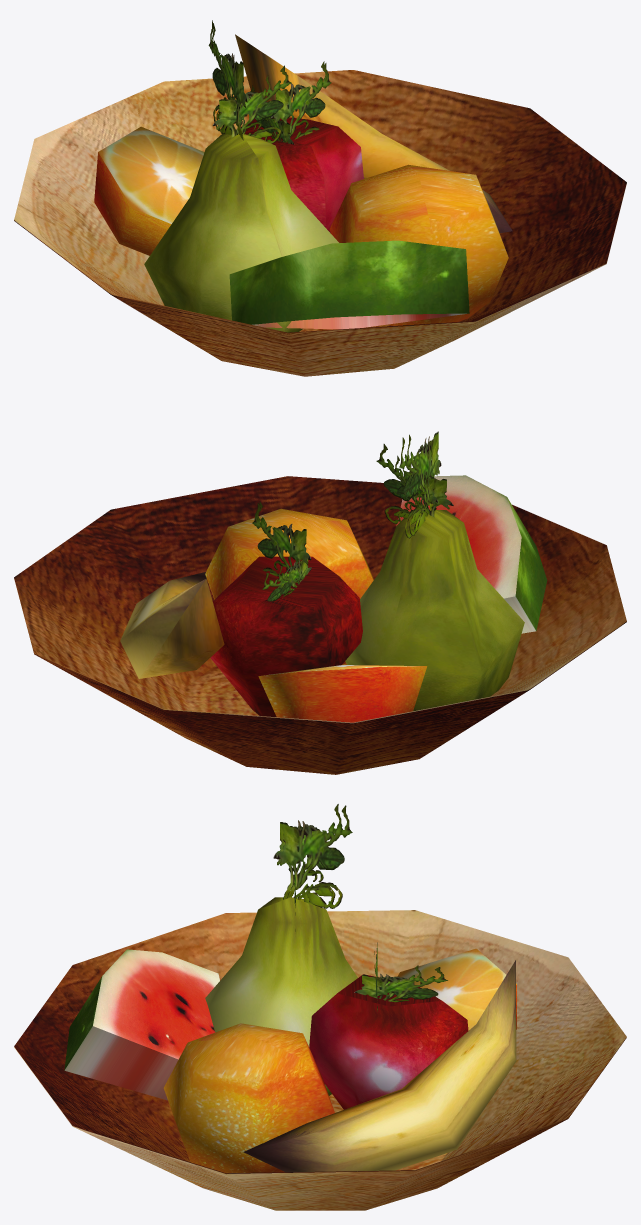
The model's file is fruitbowl_mixed.obj.
3 renders of one model, top to bottom at view 1: azimuth 30°, elevation 25°; view 2: azimuth 150°, elevation 25°; view 3: azimuth 270°, elevation 25°, orthographic. The views are drawn at different scales.
Parts seen in each view (by area): view 1: fruitbowl_mixed; view 2: fruitbowl_mixed; view 3: fruitbowl_mixed.
Boxes of the visible parts, left/top/right/bottom form: fruitbowl_mixed: left=14, top=20, right=626, bottom=376; fruitbowl_mixed: left=14, top=431, right=626, bottom=774; fruitbowl_mixed: left=14, top=804, right=626, bottom=1210.
Size of the model in its own units: 1.52 by 0.8729 by 1.6.
1 material, 1 textured.
